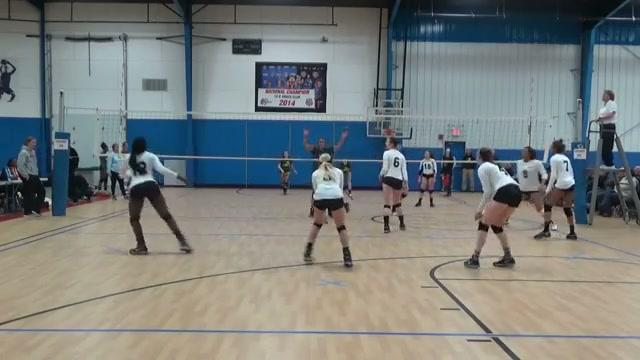ball: (320, 35, 330, 46)
